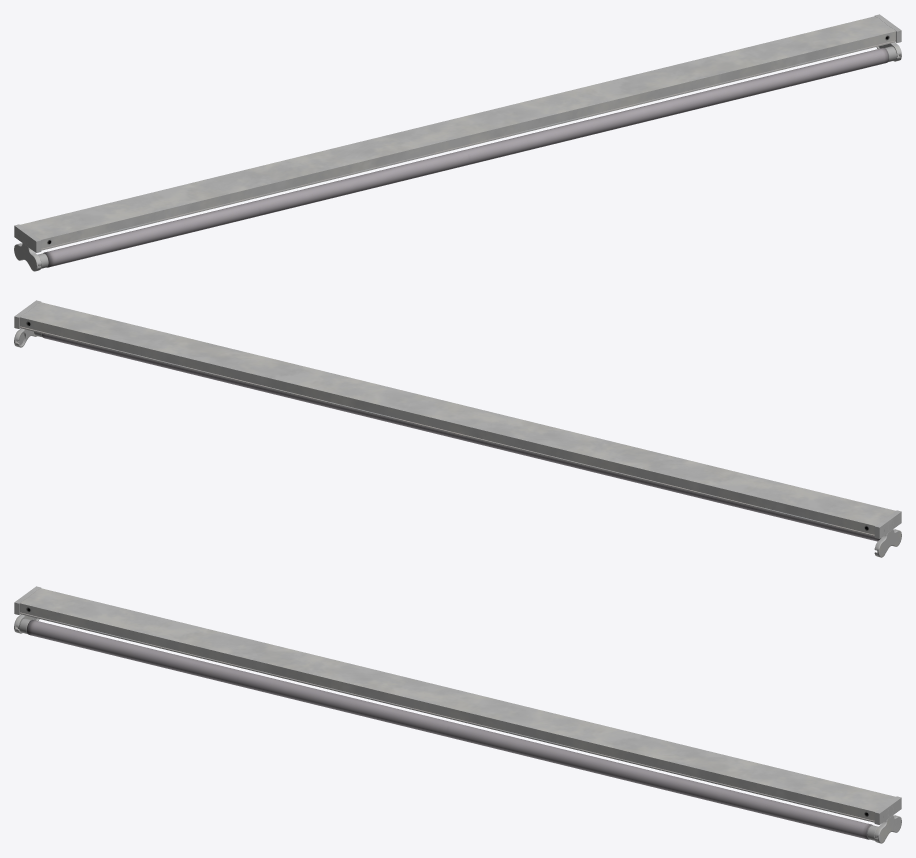
File: Fluorescente_e.glb
3 views of the same model, one above another, from view 1: azimuth 30°, elevation 25°; view 2: azimuth 150°, elevation 25°; view 3: azimuth 330°, elevation 25° (orthographic).
Parts seen in each view (by area): view 1: mounted_fluorescent_lights_e.001; view 2: mounted_fluorescent_lights_e.001; view 3: mounted_fluorescent_lights_e.001.
Boxes of the visible parts, x1,y1,x2,y2 form: mounted_fluorescent_lights_e.001: [14, 14, 901, 271]; mounted_fluorescent_lights_e.001: [14, 300, 901, 557]; mounted_fluorescent_lights_e.001: [14, 586, 901, 843].
Size of the model in its own units: 0.9109 by 0.0324 by 0.0422.
Materials: 2 (2 with a texture image).
